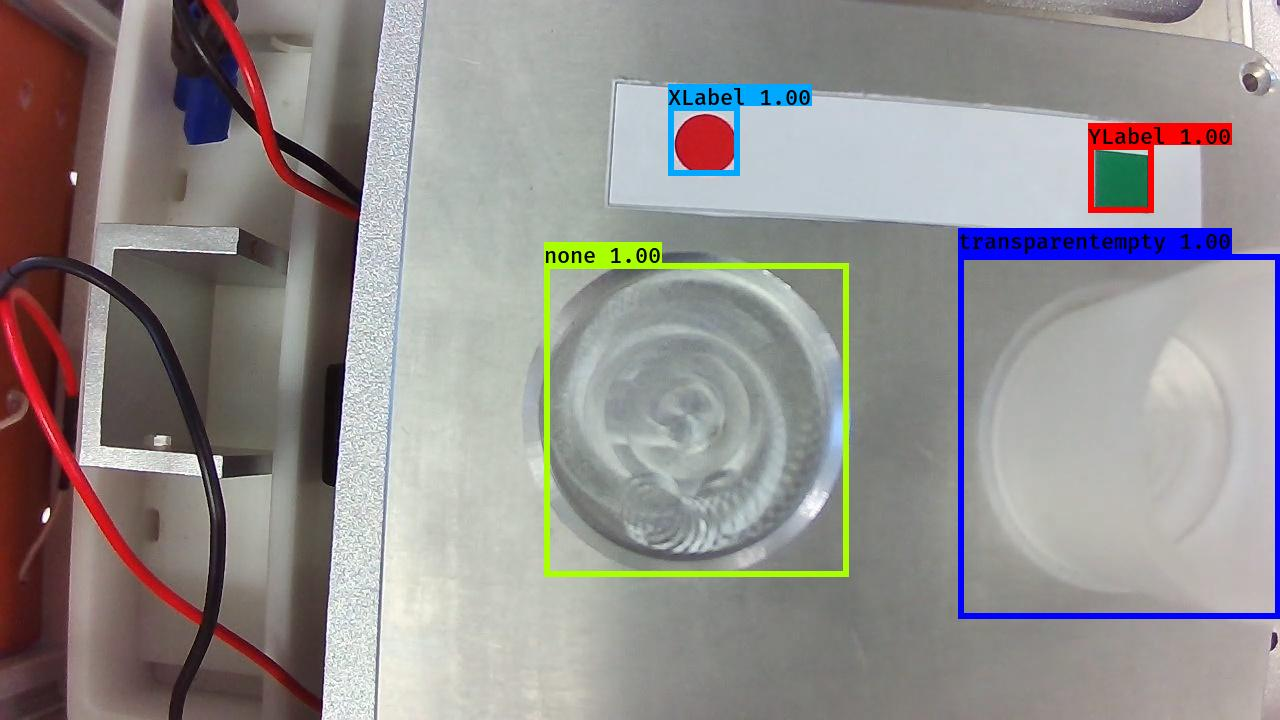XLabel: (672, 110, 740, 179)
YLabel: (1091, 144, 1155, 216)
none: (517, 247, 854, 582)
transparentempty: (976, 247, 1280, 669)
